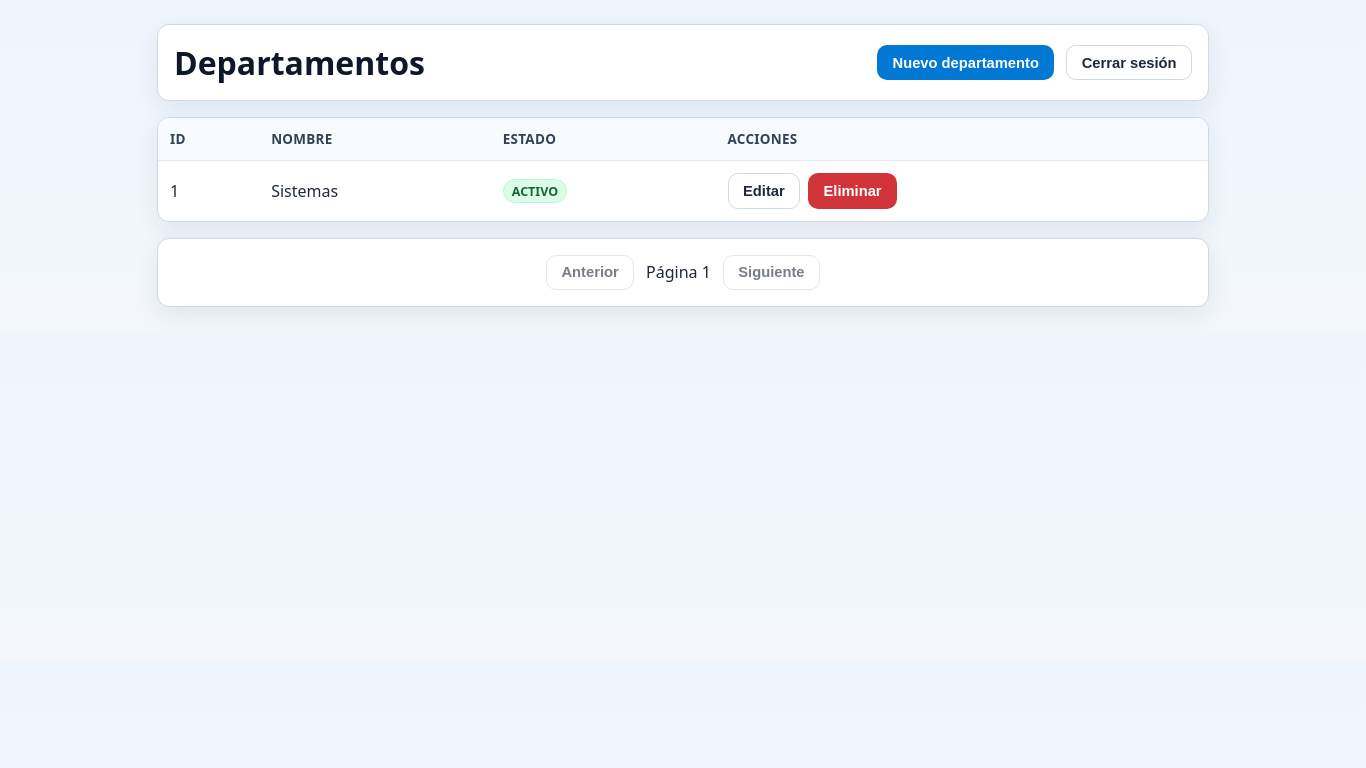
Departamentos eliminación rechazada › muestra mensaje cuando hay empleados asociados
Click the button "Eliminar" at (853, 191), box [808,173,897,209]
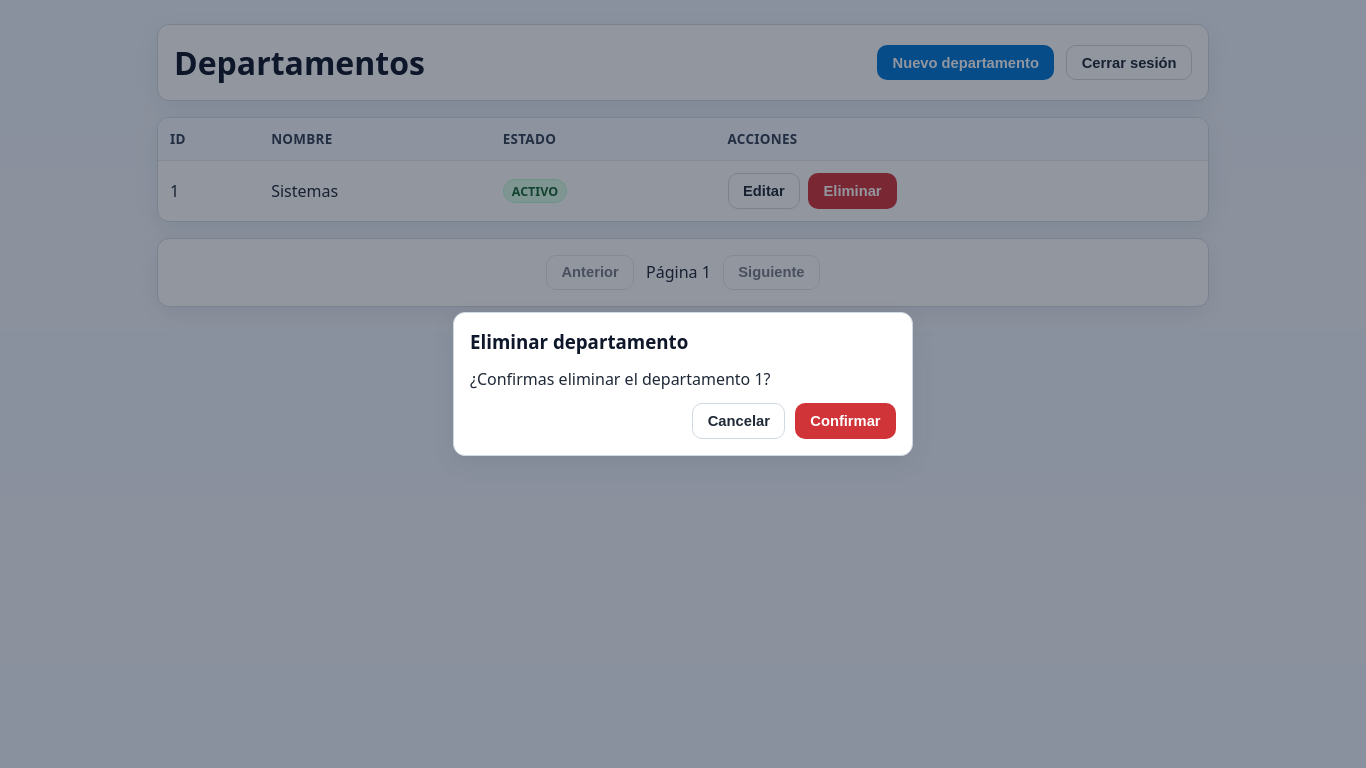
Click the button "Confirmar" at (846, 421), box [795,403,896,439]
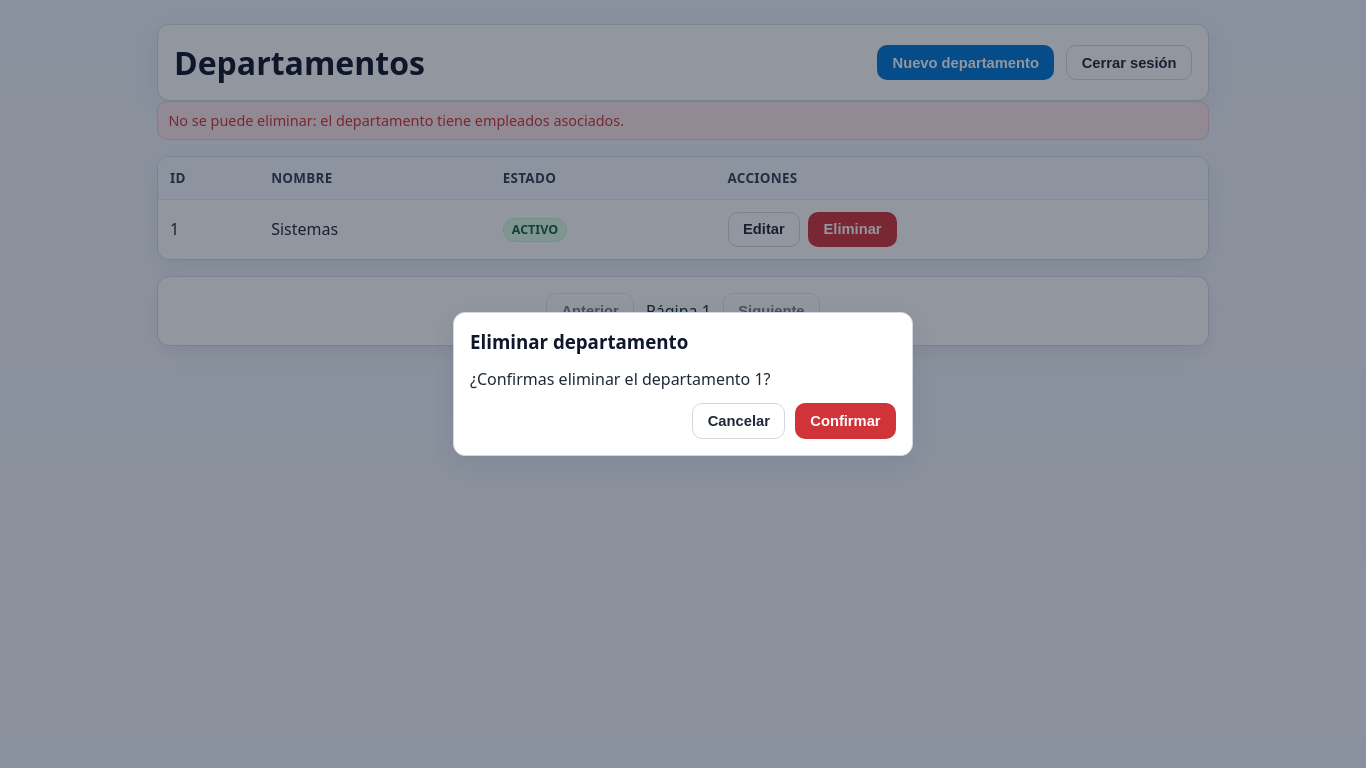
Now the text with class "error" is shown, box [157,101,1209,140]
